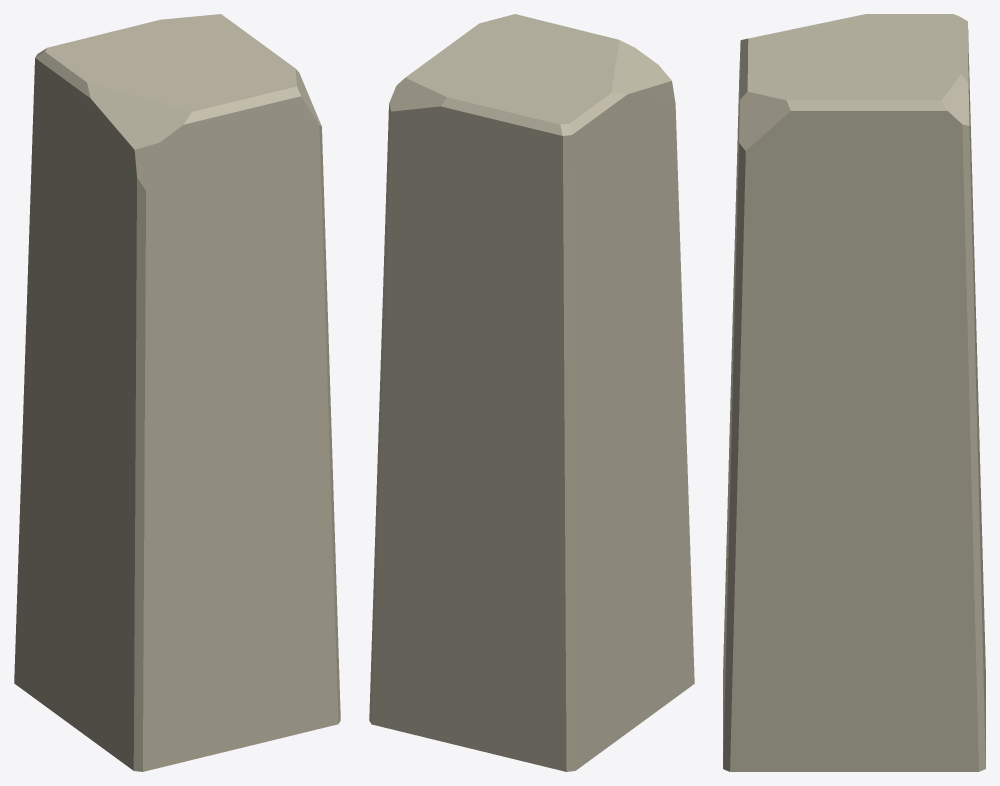
The model's file is Rock_Square_l_02 2.fbx.
3 views of the same model, side by side, from view 1: azimuth 30°, elevation 25°; view 2: azimuth 150°, elevation 25°; view 3: azimuth 270°, elevation 25° (orthographic). The views are drawn at different scales.
Visible parts, largest first — view 1: Rock_Square_l_02; view 2: Rock_Square_l_02; view 3: Rock_Square_l_02.
Part boxes in pixels (<box>): Rock_Square_l_02: <box>14,14,340,771</box>; Rock_Square_l_02: <box>369,14,694,771</box>; Rock_Square_l_02: <box>723,14,985,771</box>.
Bounding box in the file's own units: 137 × 404 × 145.
